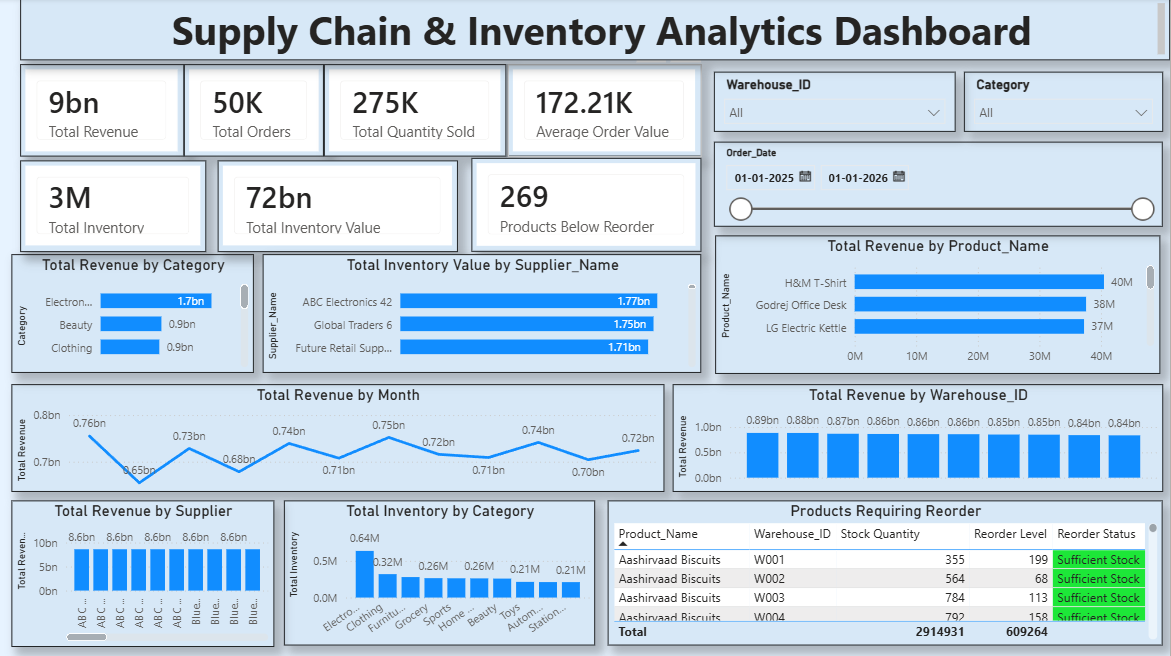

This screenshot's page, from the dashboard's own definition file:
{"tool":"powerbi","page":{"name":"Page 1","canvas":[1280,720],"ordinal":0},"visuals":[{"type":"cardVisual","fields":{"Data":["Orders.Total Revenue"]},"box":[23.2,72.4,179,101.1],"z":0},{"type":"cardVisual","fields":{"Data":["Orders.Total Orders"]},"box":[202.2,72.4,153,101.1],"z":1000},{"type":"cardVisual","fields":{"Data":["Orders.Total Quantity Sold"]},"box":[355.3,72.4,199.5,101.1],"z":2000},{"type":"cardVisual","fields":{"Data":["Orders.Average Order Value"]},"box":[556.1,72.4,211.8,101.1],"z":3000},{"type":"lineChart","fields":{"Category":["Orders.Order_Date.Variation.Date Hierarchy.Month"],"Y":["Orders.Total Revenue"]},"box":[13.7,422.2,713.2,117.5],"z":4000},{"type":"clusteredBarChart","fields":{"Category":["Products.Category"],"Y":["Orders.Total Revenue"]},"box":[13.7,280.1,265.1,129.8],"z":5000},{"type":"clusteredColumnChart","fields":{"Category":["Orders.Warehouse_ID"],"Y":["Orders.Total Revenue"]},"box":[736.5,422.2,535.6,117.5],"z":6000},{"type":"clusteredBarChart","fields":{"Category":["Products.Product_Name"],"Y":["Orders.Total Revenue"]},"box":[782.5,259.4,486.1,151.1],"z":7000},{"type":"cardVisual","fields":{"Data":["Inventory.Total Inventory"]},"box":[23.2,177.6,203.6,99.7],"z":8000},{"type":"cardVisual","fields":{"Data":["Inventory.Total Inventory Value"]},"box":[239.1,177.6,262.3,99.7],"z":9000},{"type":"cardVisual","fields":{"Data":["Inventory.Products Below Reorder"]},"box":[516.5,174.9,251.4,102.5],"z":10000},{"type":"clusteredColumnChart","fields":{"Category":["Products.Category"],"Y":["Inventory.Total Inventory"]},"box":[311.5,549.3,340.2,158.5],"z":11000},{"type":"tableEx","title":"Products Requiring Reorder","fields":{"Values":["Products.Product_Name","Inventory.Warehouse_ID","Sum(Inventory.Stock_Quantity)","Sum(Inventory.Reorder_Level)","Inventory.Reorder Status"]},"box":[665.4,549.3,606.7,158.5],"z":12000},{"type":"clusteredBarChart","fields":{"Category":["Suppliers.Supplier_Name"],"Y":["Inventory.Total Inventory Value"]},"box":[288.3,280.1,479.6,129.8],"z":13000},{"type":"slicer","fields":{"Values":["Orders.Order_Date"]},"box":[781.6,157.1,490.5,92.9],"z":14000},{"type":"slicer","fields":{"Values":["Products.Category"]},"box":[1054.8,80.6,217.3,65.6],"z":15000},{"type":"slicer","fields":{"Values":["Orders.Warehouse_ID"]},"box":[781.6,80.6,263.7,65.6],"z":16000},{"type":"textbox","box":[23.2,0,1257,68.3],"z":17000},{"type":"clusteredColumnChart","title":"Total Revenue by Supplier","fields":{"Category":["Suppliers.Supplier_Name"],"Y":["Orders.Total Revenue"]},"box":[13.7,549.3,286.9,159.9],"z":17001}]}

Visuals, with their boxes in screenshot pixels (x1, y1, x2, y2), scaled from the page's 1280x720 canvas onto the 1171x656 screenshot:
cardVisual - Orders.Total Revenue: bbox=(21, 66, 185, 158)
cardVisual - Orders.Total Orders: bbox=(185, 66, 325, 158)
cardVisual - Orders.Total Quantity Sold: bbox=(325, 66, 508, 158)
cardVisual - Orders.Average Order Value: bbox=(509, 66, 703, 158)
lineChart - Orders.Order_Date.Variation.Date Hierarchy.Month x Orders.Total Revenue: bbox=(13, 385, 665, 492)
clusteredBarChart - Products.Category x Orders.Total Revenue: bbox=(13, 255, 255, 373)
clusteredColumnChart - Orders.Warehouse_ID x Orders.Total Revenue: bbox=(674, 385, 1164, 492)
clusteredBarChart - Products.Product_Name x Orders.Total Revenue: bbox=(716, 236, 1161, 374)
cardVisual - Inventory.Total Inventory: bbox=(21, 162, 207, 253)
cardVisual - Inventory.Total Inventory Value: bbox=(219, 162, 459, 253)
cardVisual - Inventory.Products Below Reorder: bbox=(473, 159, 703, 253)
clusteredColumnChart - Products.Category x Inventory.Total Inventory: bbox=(285, 500, 596, 645)
"Products Requiring Reorder" tableEx: bbox=(609, 500, 1164, 645)
clusteredBarChart - Suppliers.Supplier_Name x Inventory.Total Inventory Value: bbox=(264, 255, 703, 373)
slicer - Orders.Order_Date: bbox=(715, 143, 1164, 228)
slicer - Products.Category: bbox=(965, 73, 1164, 133)
slicer - Orders.Warehouse_ID: bbox=(715, 73, 956, 133)
textbox: bbox=(21, 0, 1170, 62)
"Total Revenue by Supplier" clusteredColumnChart: bbox=(13, 500, 275, 646)
